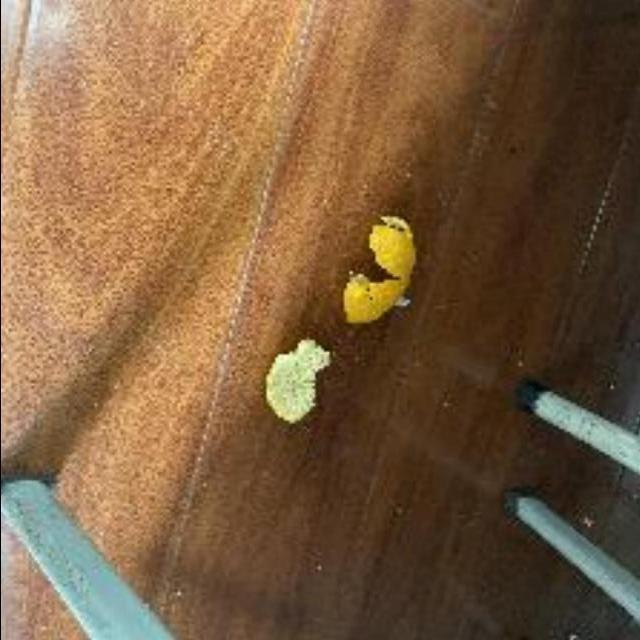orange peel: (341, 207, 423, 324), (260, 336, 334, 424)
